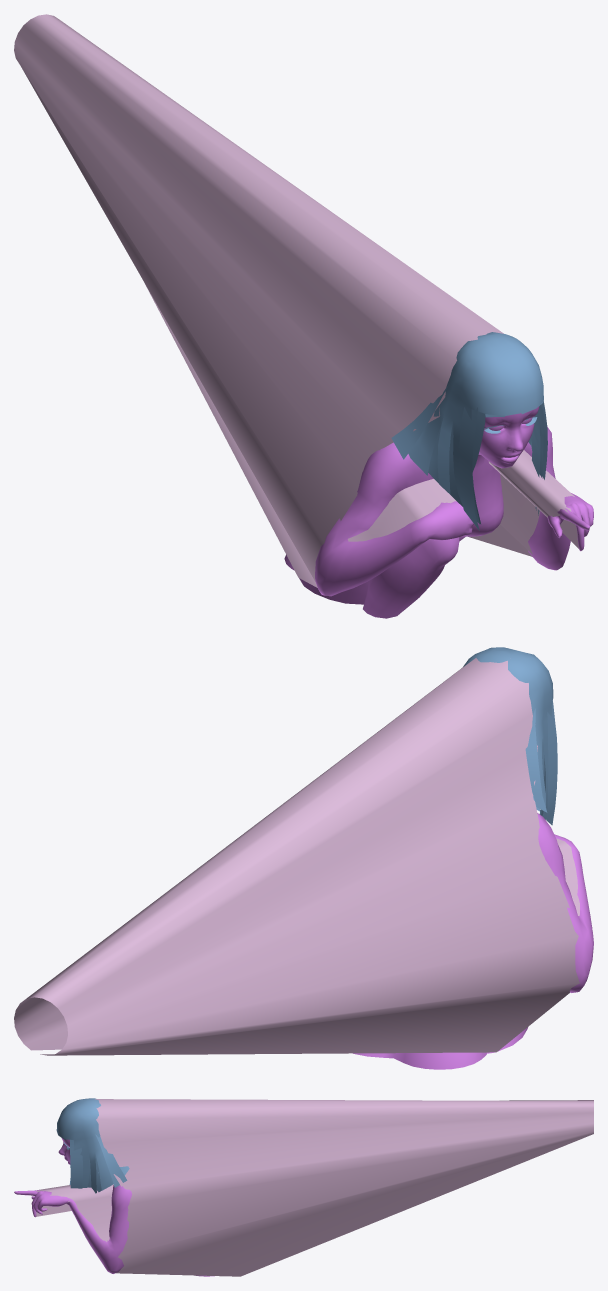
The model's file is Joi.fbx.
3 renders of one model, top to bottom at view 1: azimuth 30°, elevation 25°; view 2: azimuth 150°, elevation 25°; view 3: azimuth 270°, elevation 25°, orthographic. The views are drawn at different scales.
Visible parts, largest first — view 1: Hologram_L, Joi1_L, Hair_L, Joi2_L; view 2: Hologram_L, Hair_L, Joi1_L; view 3: Hologram_L, Hair_L, Joi1_L.
Boxes of the visible parts, box(x1,y1,x2,y2) form: Hologram_L: box(14, 14, 578, 587); Joi1_L: box(284, 406, 593, 596); Hair_L: box(391, 332, 547, 530); Joi2_L: box(299, 537, 459, 618); Hologram_L: box(14, 658, 580, 1055); Hair_L: box(463, 647, 557, 825); Joi1_L: box(353, 813, 593, 1069); Hologram_L: box(35, 1099, 593, 1276); Hair_L: box(56, 1098, 129, 1193); Joi1_L: box(14, 1138, 214, 1276).
Bounding box in the file's own units: 28.97 × 35.46 × 115.
